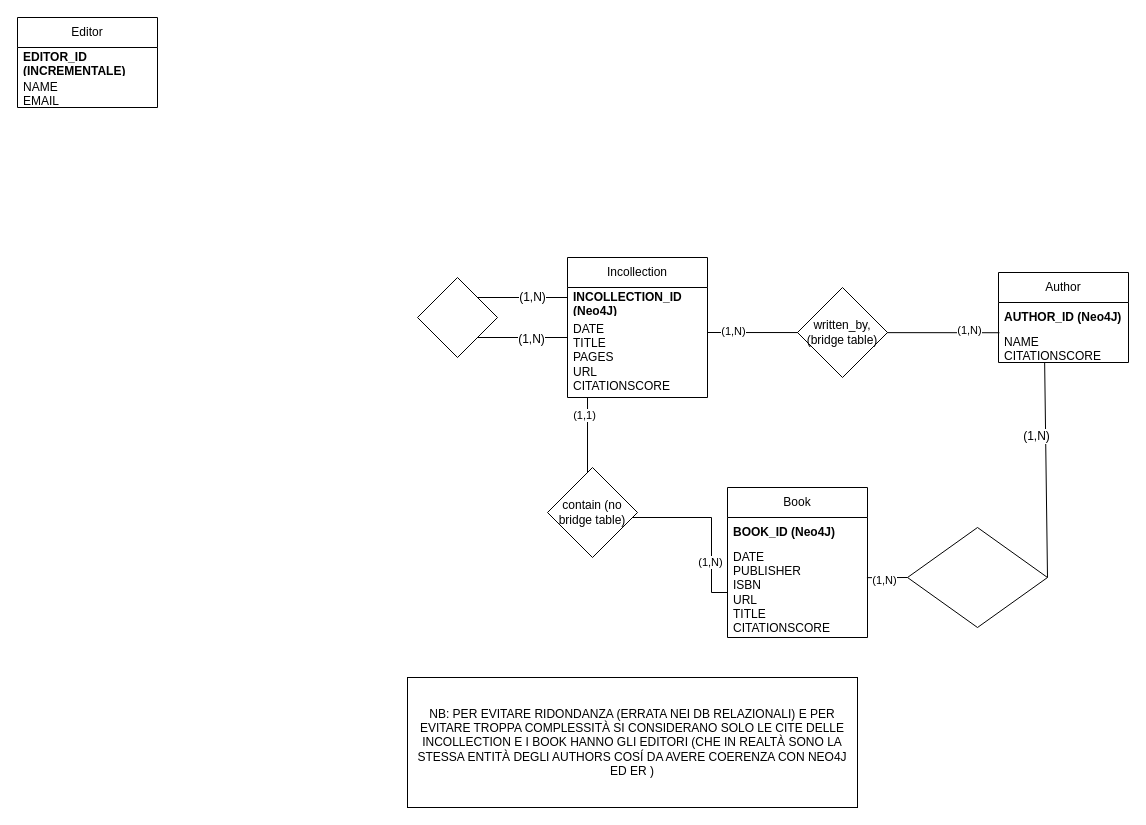
The diagram is 1146 pixels wide and 825 high, and some of its shapes have lost their labels. Here are the shapes that lost their labels. From the top down, the box of each, then its label:
(416, 276, 498, 358): cite, (bridge table)
(906, 526, 1048, 628): edited_by, (bridge table)
